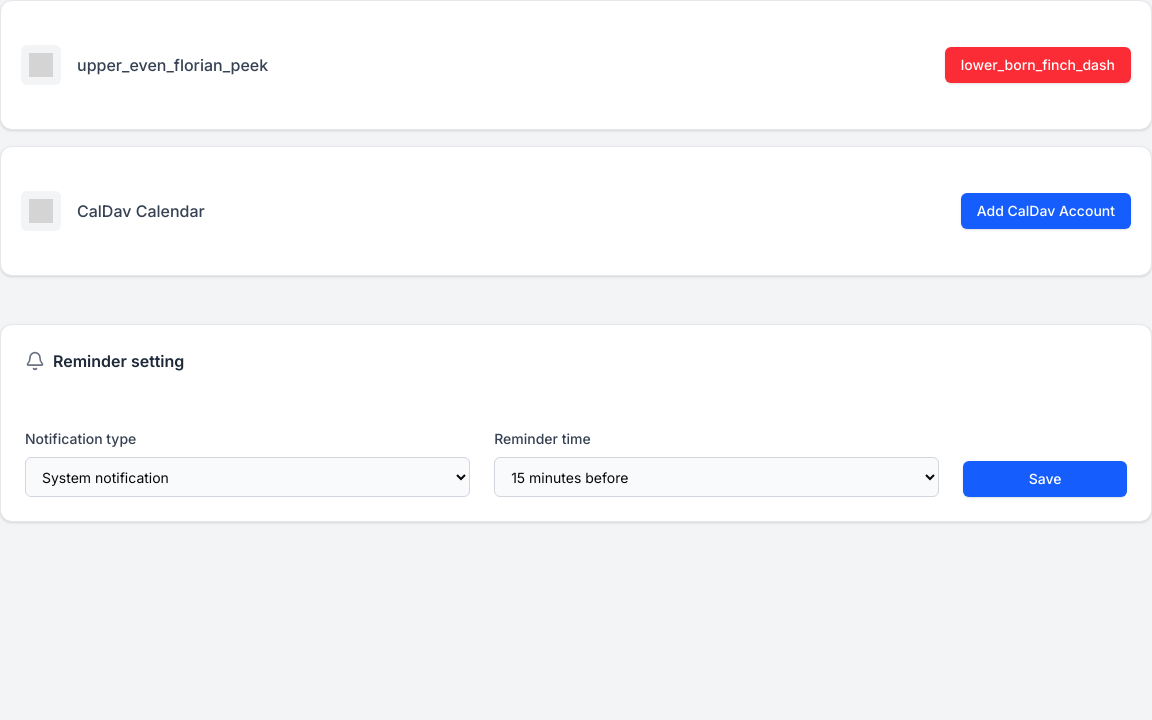
it: CalendarSettings Component › should disconnect Google Calendar
What coordinates should you click on to do the following:
click the button with test id "disconnect-google-button"
I would click on:
 (1038, 65)
Its box is [945,47,1131,83].
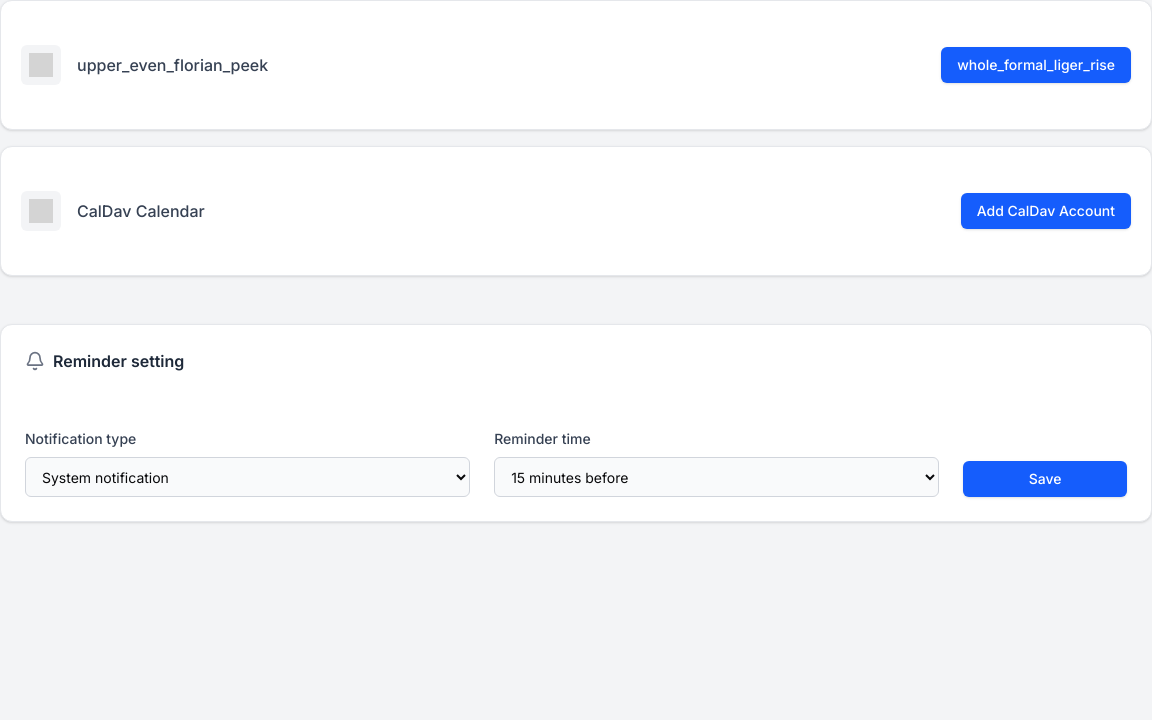
Check: the link with test id "connect-google-button" is shown, box [941,47,1131,83]
